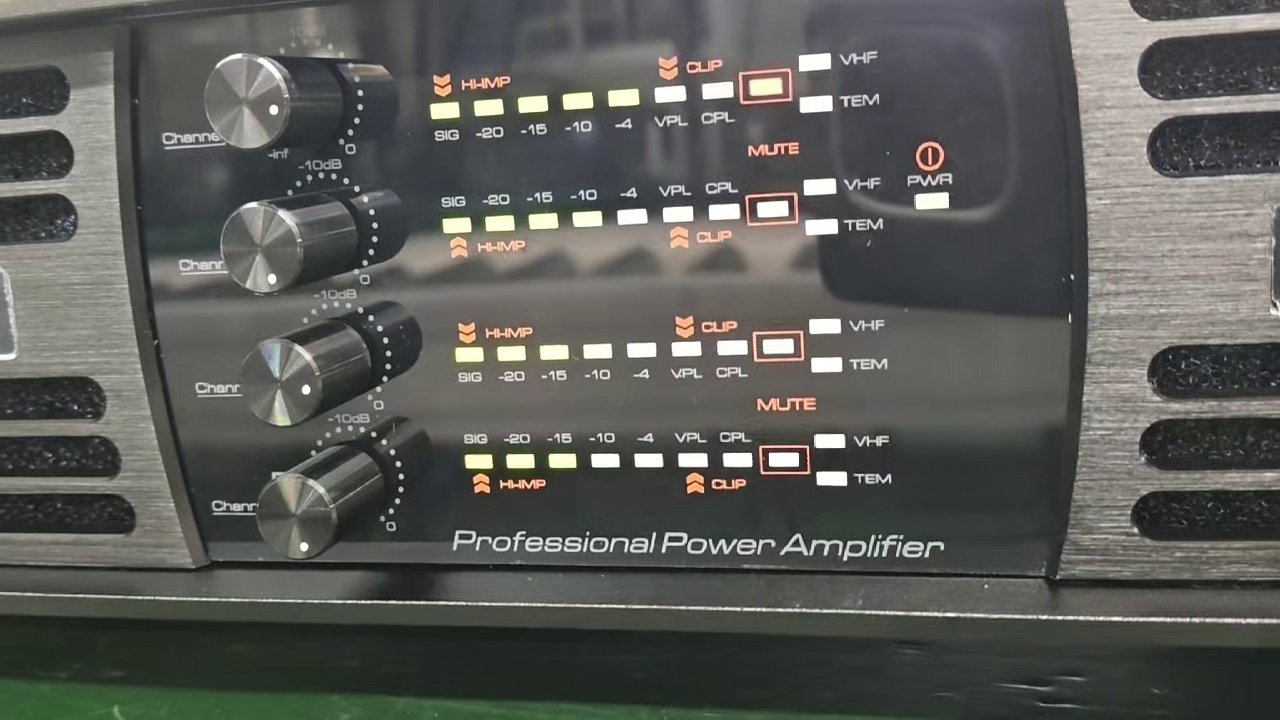FP_CPL: (699, 77, 737, 132), (703, 177, 742, 227), (718, 426, 755, 474)
FP_PWR: (901, 170, 955, 214)
FP_PWR_area: (898, 134, 958, 219)
FP_SIG_area: (420, 48, 883, 146), (434, 165, 883, 260), (450, 309, 894, 384), (455, 422, 898, 496)
FP_VPL: (651, 79, 692, 136), (655, 178, 696, 227), (671, 425, 711, 474), (713, 336, 752, 384), (668, 335, 700, 383)
